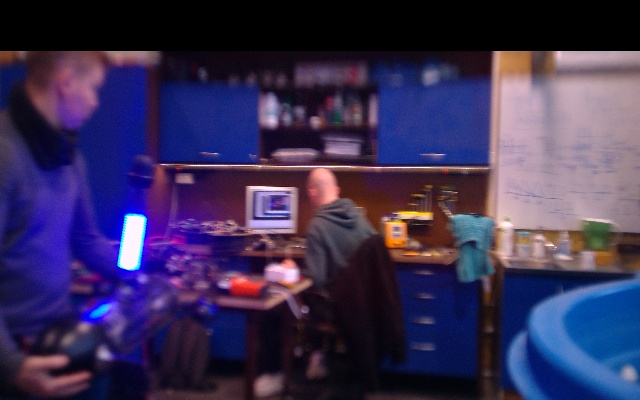blue: (118, 213, 148, 272)
